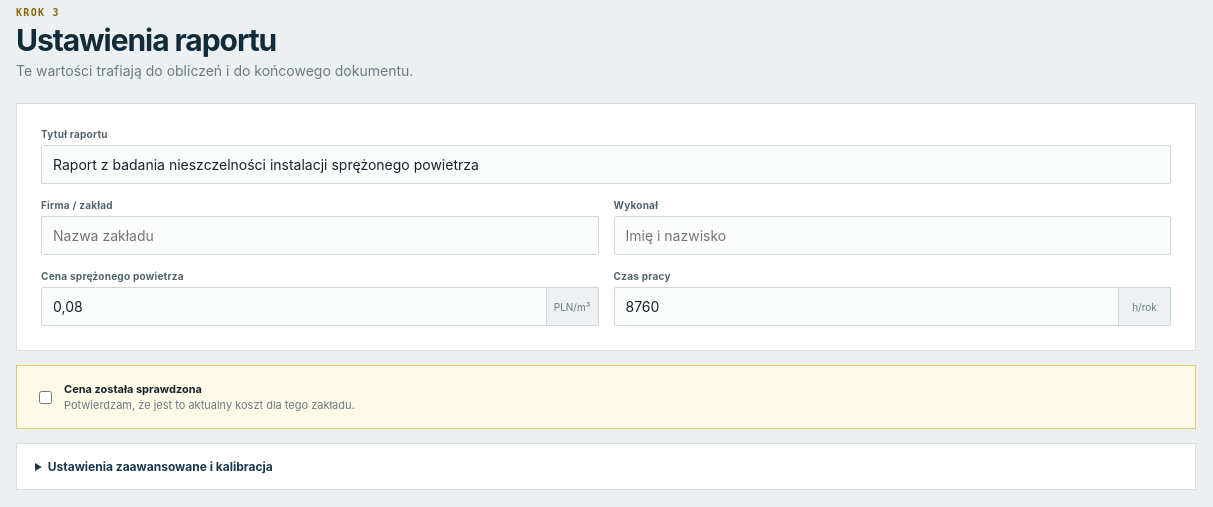
SettingsPanel › restores the previous price when the entered value is invalid
Replace the text in the field labelled "Cena sprężonego powietrza" with "abc" at (294, 307), box [41,287,546,326]
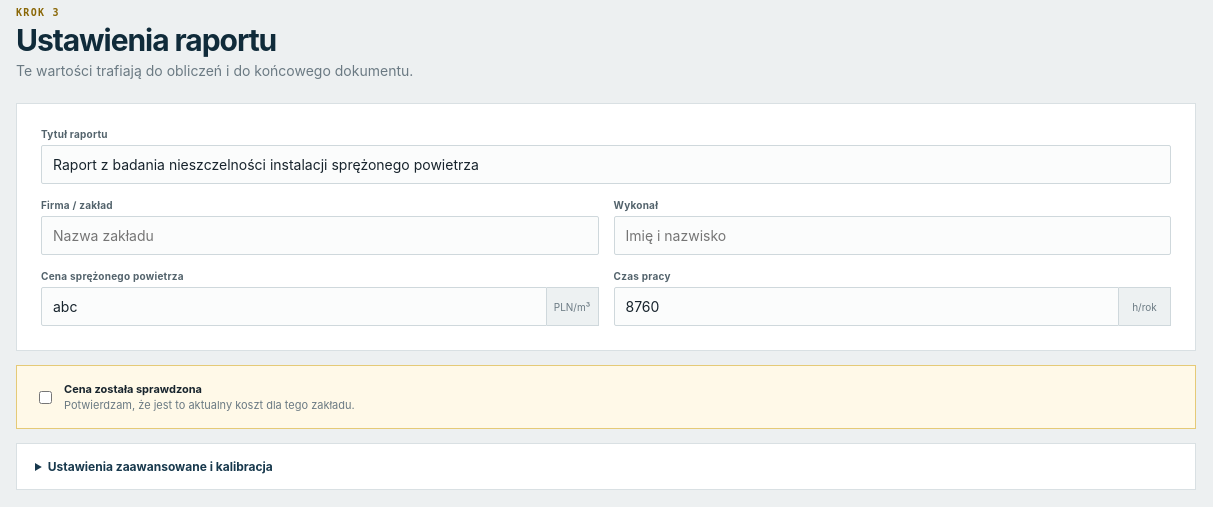
Leave the field labelled "Cena sprężonego powietrza", box [41,287,546,326]
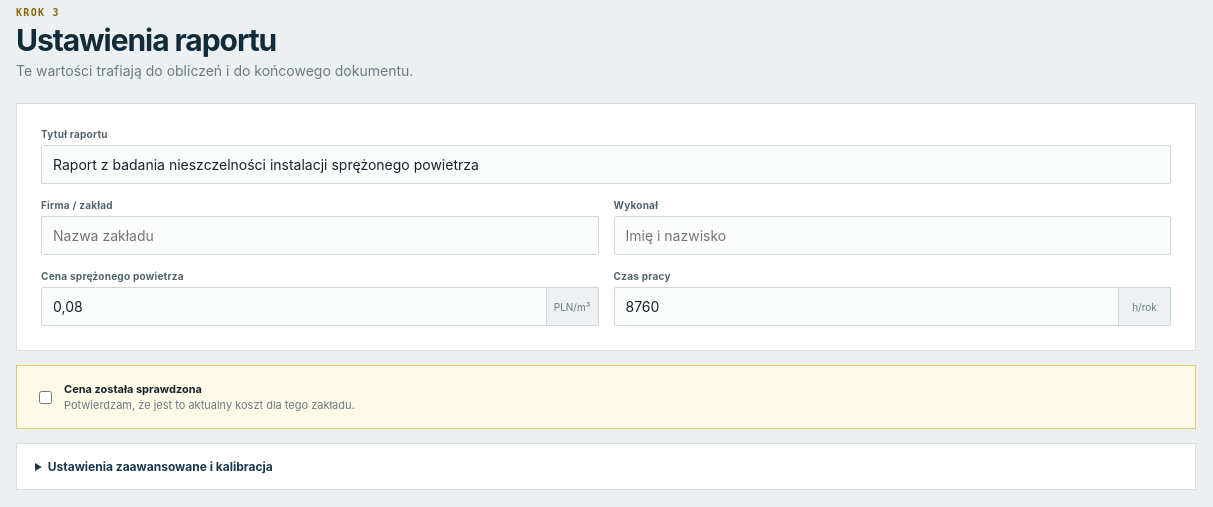
expect the field labelled "Cena sprężonego powietrza" holds "0,08": met, box [41,287,546,326]
